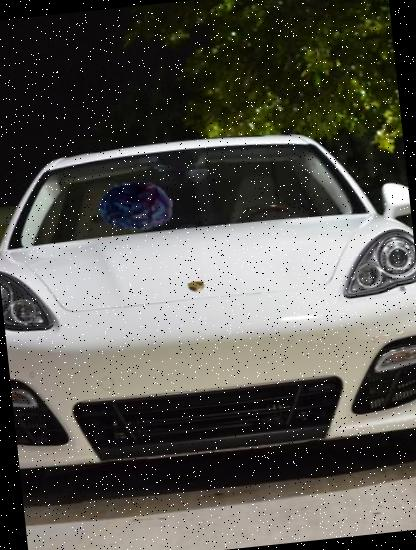Dates: (94, 164, 178, 248)
